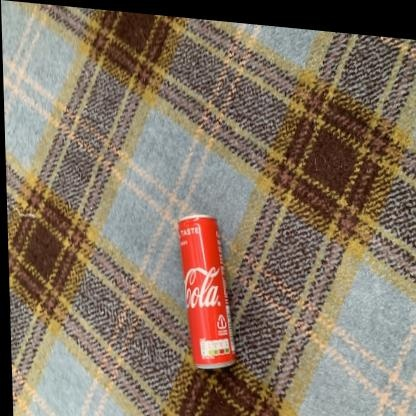trash: (178, 215, 234, 368)
